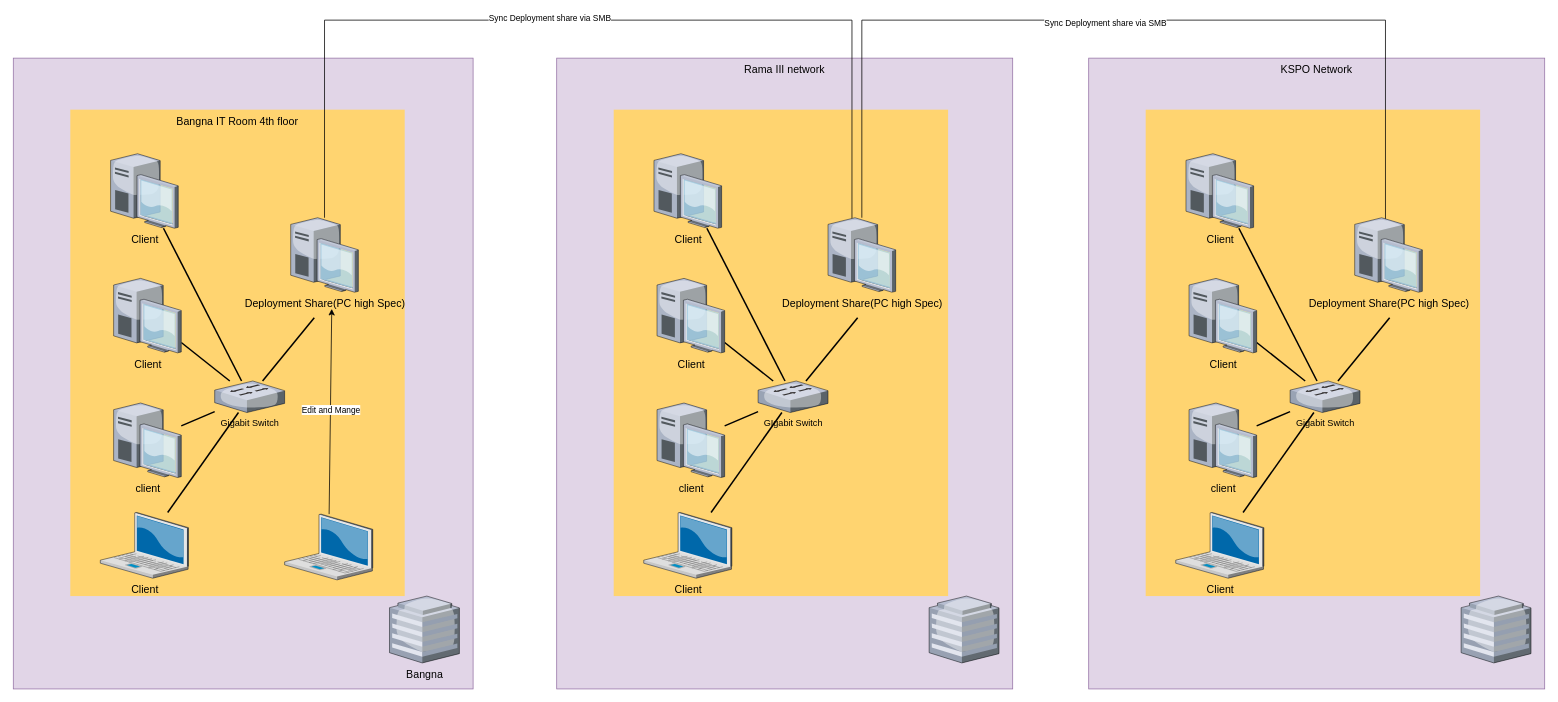
The diagram is 1558 pixels wide and 702 high, and some of its shapes have lost their labels. The shapes that lost their labels are listed below. From the top down, each one's box as (x1, y1, x2, y2) in pixels, then its label:
(613, 109, 948, 596): RAMA III IT Room 16 floor
(1145, 109, 1480, 596): KSPO IT Room
(13, 57, 473, 689): Bangna Network
(284, 514, 372, 580): Management Computer (MDT Software)
(929, 596, 999, 663): Rama III
(1461, 596, 1531, 663): KSPO
